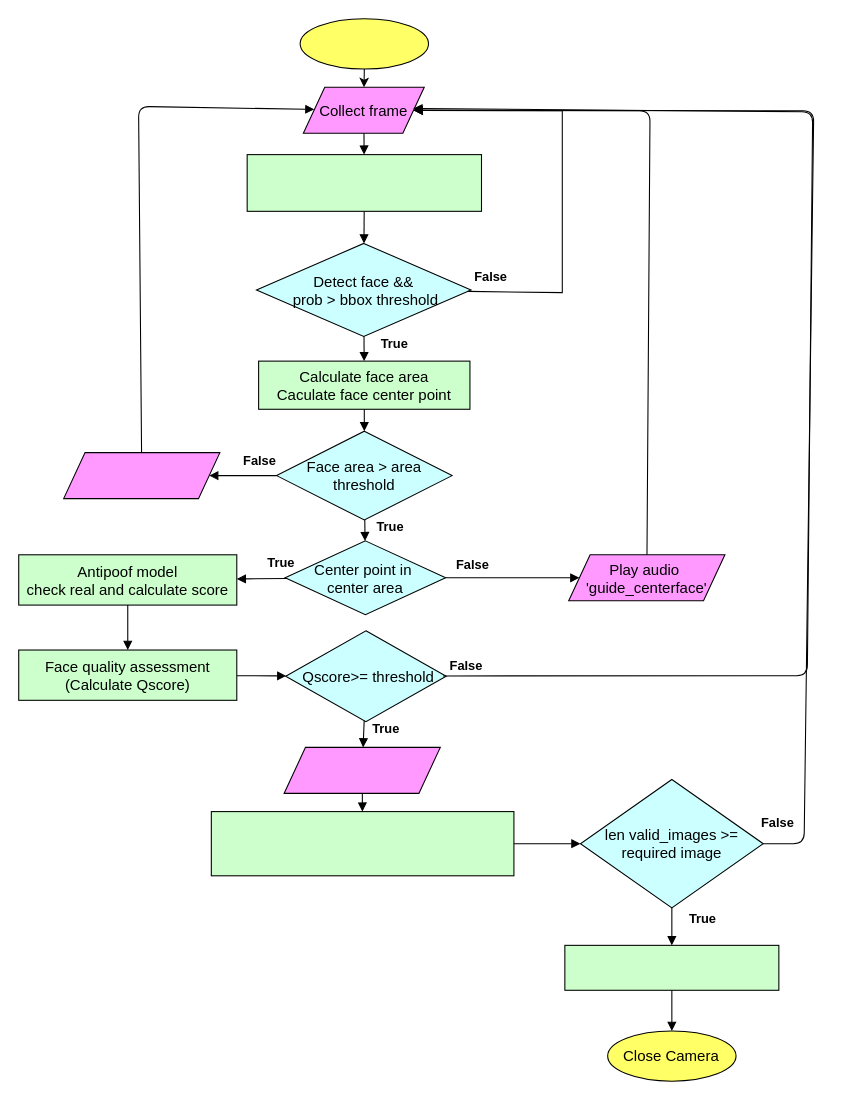
Some shapes in this 841 by 1100 pixel diagram are drawn without their labels. Each missing label, with the box of its shape:
Append frame to valid_images Append real check result and score to is_reals: (210, 811, 514, 876)
Face detect and lanmark detect valid_images = [] is_reals = []: (246, 154, 482, 211)
Play audio ' guide_closer ': (63, 452, 220, 499)
Play audio ' guide_keepface': (283, 746, 440, 793)
Return valid_images and is_reals: (564, 944, 779, 990)
Start Camera: (299, 18, 429, 69)
